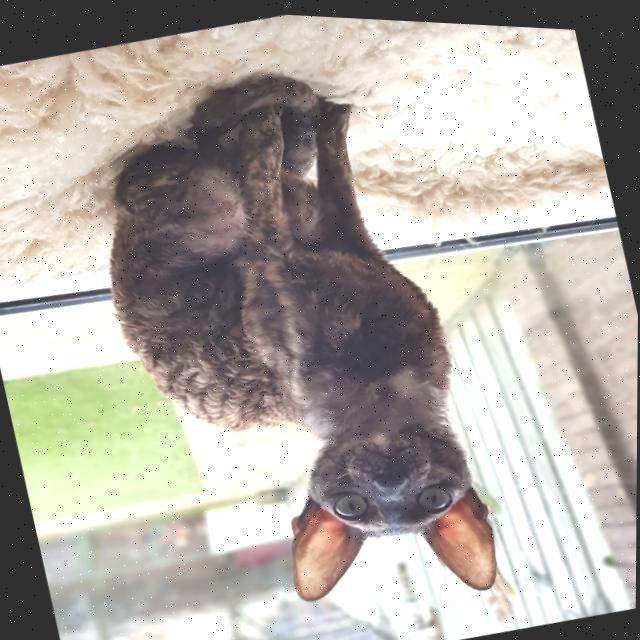Cornish Rex: (57, 30, 520, 640)
